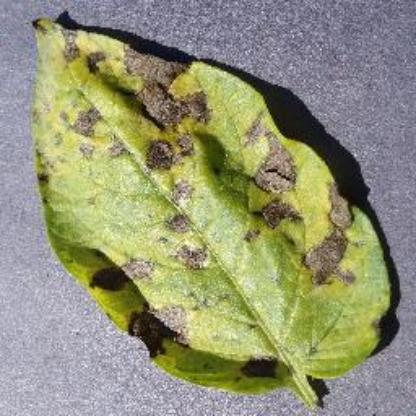Early-Blight: (12, 11, 416, 414)
